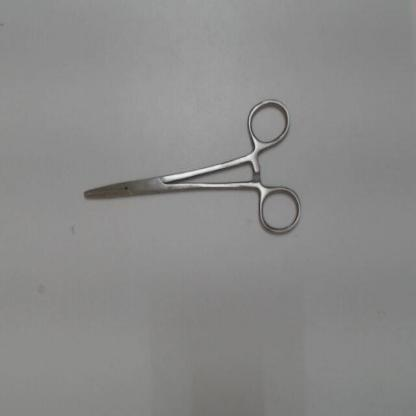Mayo Needle Holder: (69, 91, 312, 245)
